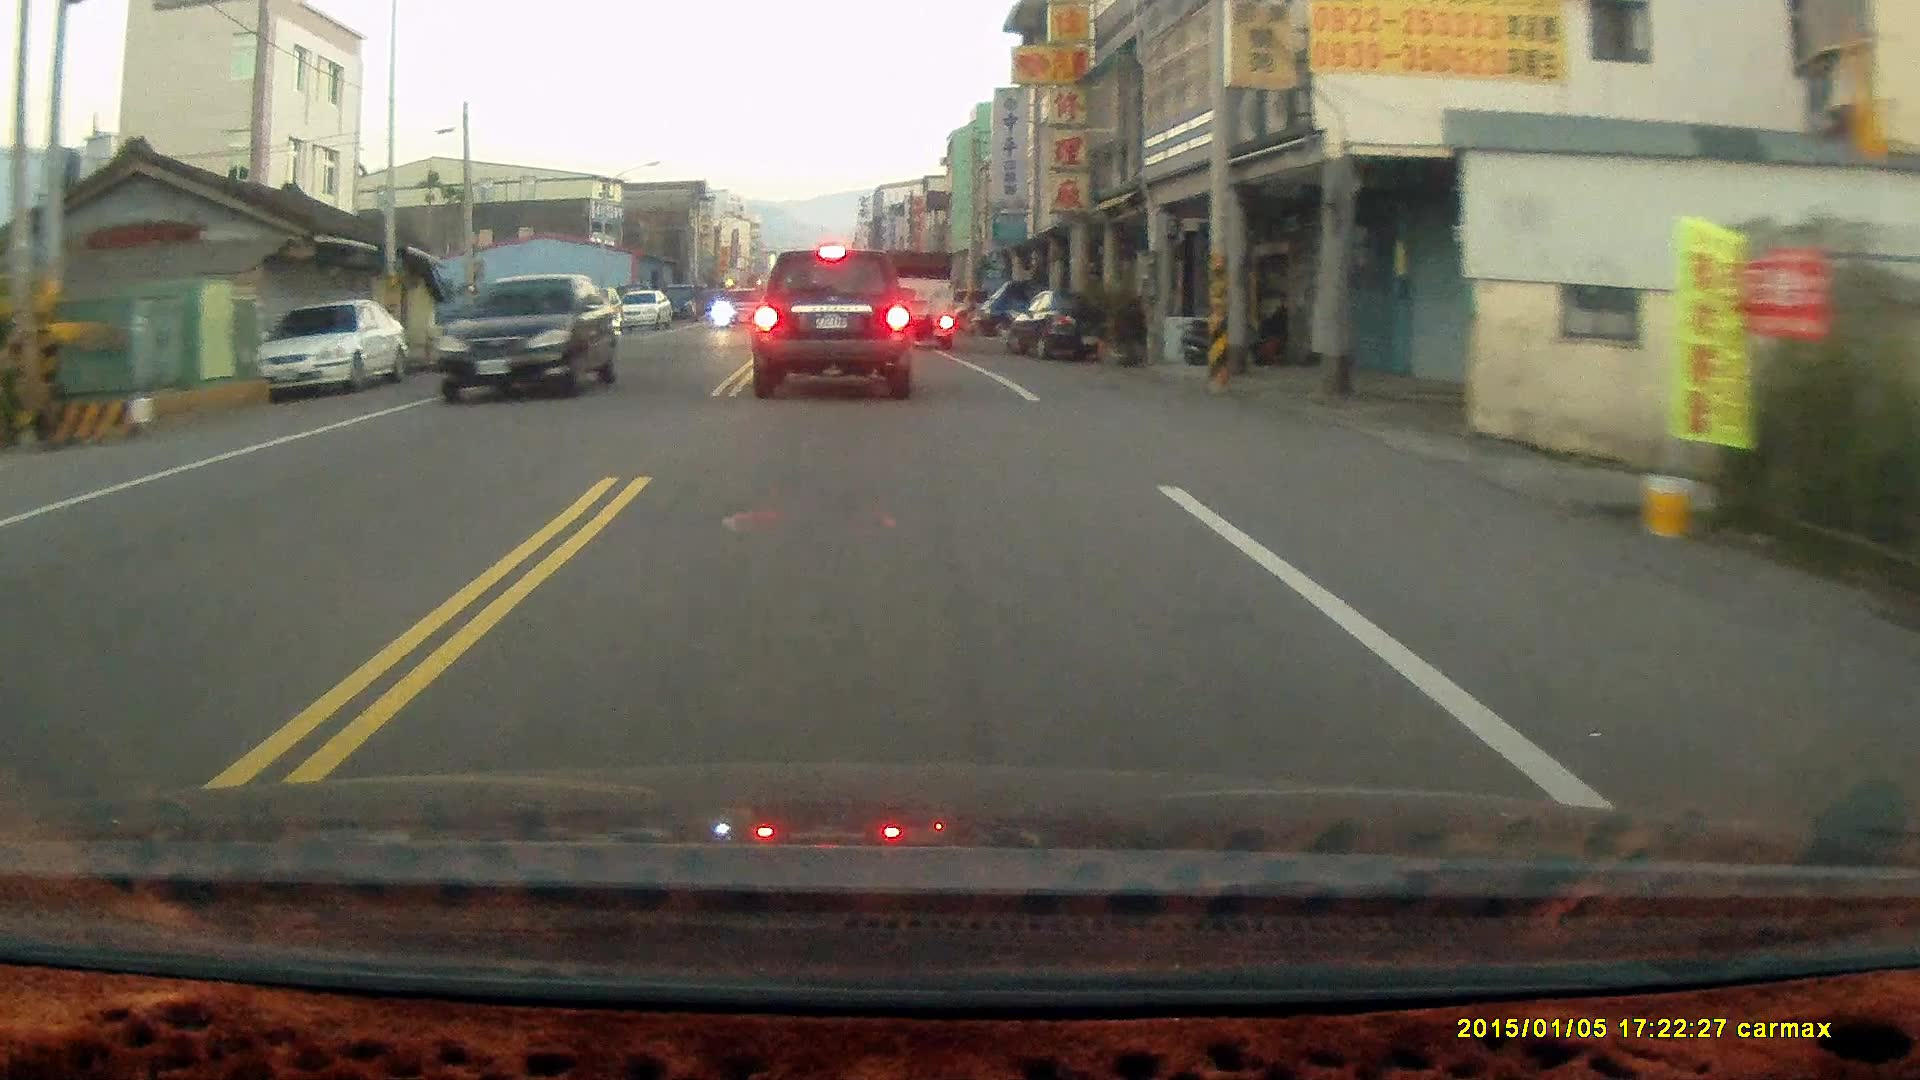vehicle: (752, 247, 916, 404), (433, 274, 618, 407), (252, 298, 409, 396), (1013, 291, 1131, 367), (880, 255, 957, 357), (615, 291, 673, 334)
